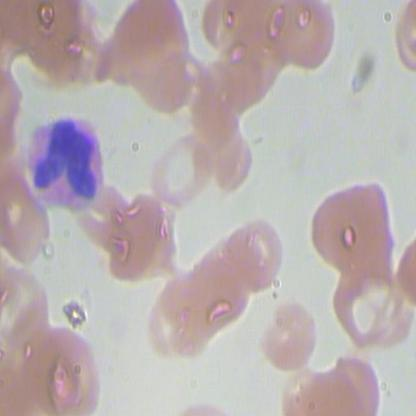RBC: (308, 175, 396, 268), (330, 267, 398, 346), (270, 1, 337, 78), (151, 130, 217, 208), (133, 39, 199, 117), (142, 274, 208, 352), (255, 297, 321, 372), (326, 352, 392, 415), (231, 215, 287, 289), (1, 198, 55, 267)
WBC: (18, 112, 112, 211)
